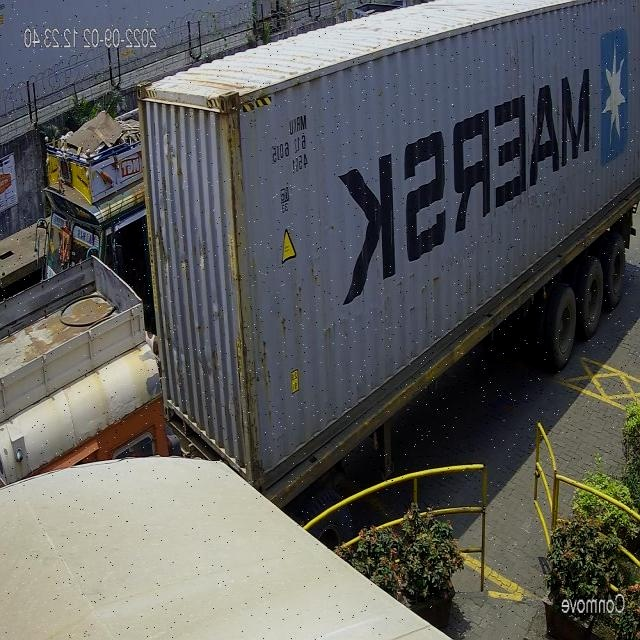Dent: (162, 129, 186, 193), (180, 241, 211, 283)
Rusty: (217, 80, 270, 491), (130, 80, 154, 172)
